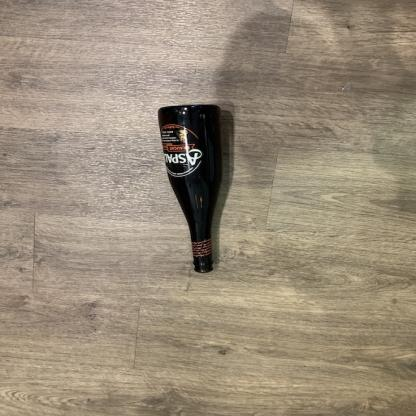trash: (154, 102, 232, 274)
